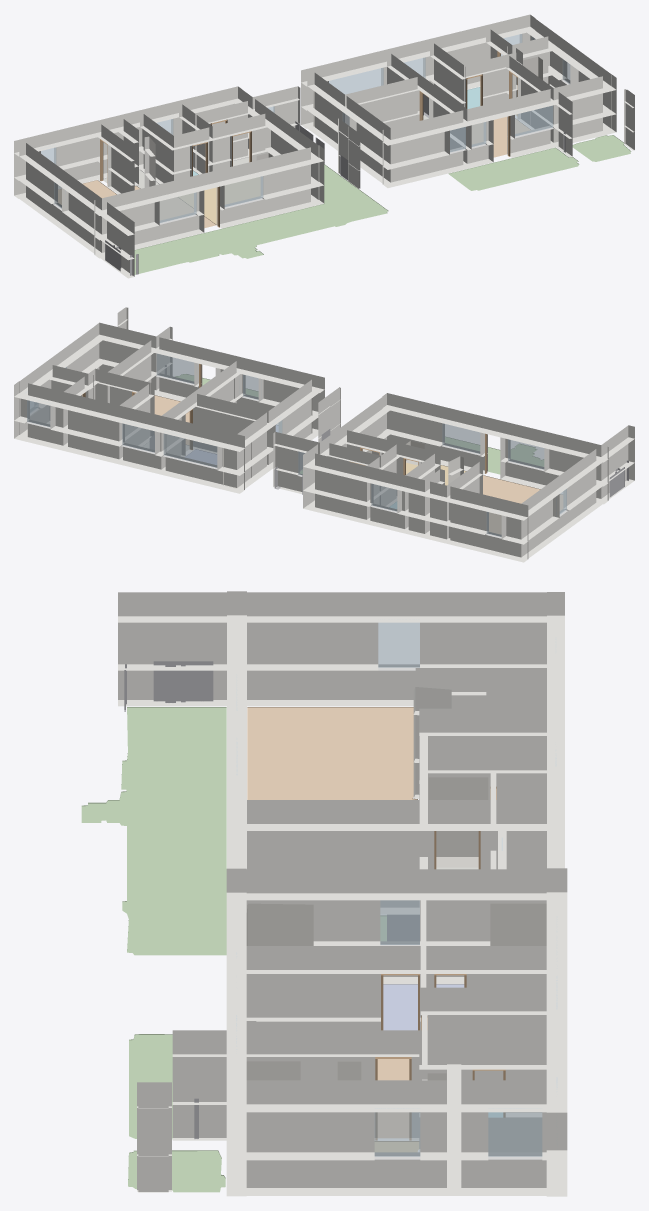
The picture shows the model from 3 angles, top to bottom: view 1: azimuth 30°, elevation 25°; view 2: azimuth 150°, elevation 25°; view 3: azimuth 270°, elevation 25°; orthographic projection. The views are drawn at different scales.
Parts seen in each view (by area): view 1: walls, floor_14_Outdoor, floor_15_Outdoor, floor_2_Kitchen, railings, floor_0_Living_Room, floor_16_Outdoor, floor_7_Living_Room, window_10, window_17, window_12, window_6; view 2: walls, floor_0_Living_Room, window_12, floor_14_Outdoor, window_10, window_17, window_6, window_5, railings, window_11, window_13, floor_7_Living_Room; view 3: walls, floor_14_Outdoor, floor_0_Living_Room, railings, furniture_1_closet, furniture_4_closet, floor_15_Outdoor, floor_16_Outdoor, window_2, furniture_0_closet, window_1, window_9 (+5 smaller).
Part boxes in pixels (x1,y1,x2,y2): walls: (14, 14, 634, 278); floor_14_Outdoor: (134, 164, 388, 274); floor_15_Outdoor: (448, 147, 579, 190); floor_2_Kitchen: (179, 177, 260, 224); railings: (105, 94, 565, 275); floor_0_Living_Room: (58, 180, 216, 228); floor_16_Outdoor: (572, 135, 631, 161); floor_7_Living_Room: (472, 117, 530, 157); window_10: (224, 176, 263, 207); window_17: (515, 105, 553, 136); window_12: (329, 68, 383, 94); window_6: (159, 192, 196, 222); walls: (14, 307, 634, 562); floor_0_Living_Room: (483, 475, 562, 534); window_12: (163, 433, 217, 467); floor_14_Outdoor: (300, 437, 543, 474); window_10: (442, 423, 480, 453); window_17: (156, 353, 194, 383); window_6: (508, 439, 544, 469); window_5: (122, 423, 154, 452); railings: (150, 365, 628, 497); window_11: (371, 484, 397, 511); window_13: (27, 400, 50, 426); floor_7_Living_Room: (154, 395, 189, 444); walls: (118, 591, 567, 1196); floor_14_Outdoor: (81, 707, 386, 955); floor_0_Living_Room: (247, 707, 417, 799); railings: (124, 661, 419, 1139); furniture_1_closet: (428, 777, 488, 867); furniture_4_closet: (246, 903, 313, 945); floor_15_Outdoor: (129, 1034, 172, 1139); floor_16_Outdoor: (128, 1150, 225, 1192); window_2: (488, 1108, 542, 1156); furniture_0_closet: (490, 903, 546, 945); window_1: (374, 1108, 420, 1156); window_9: (378, 622, 419, 667).
Bounding box in the file's own units: 26.76 × 2.72 × 11.05.
